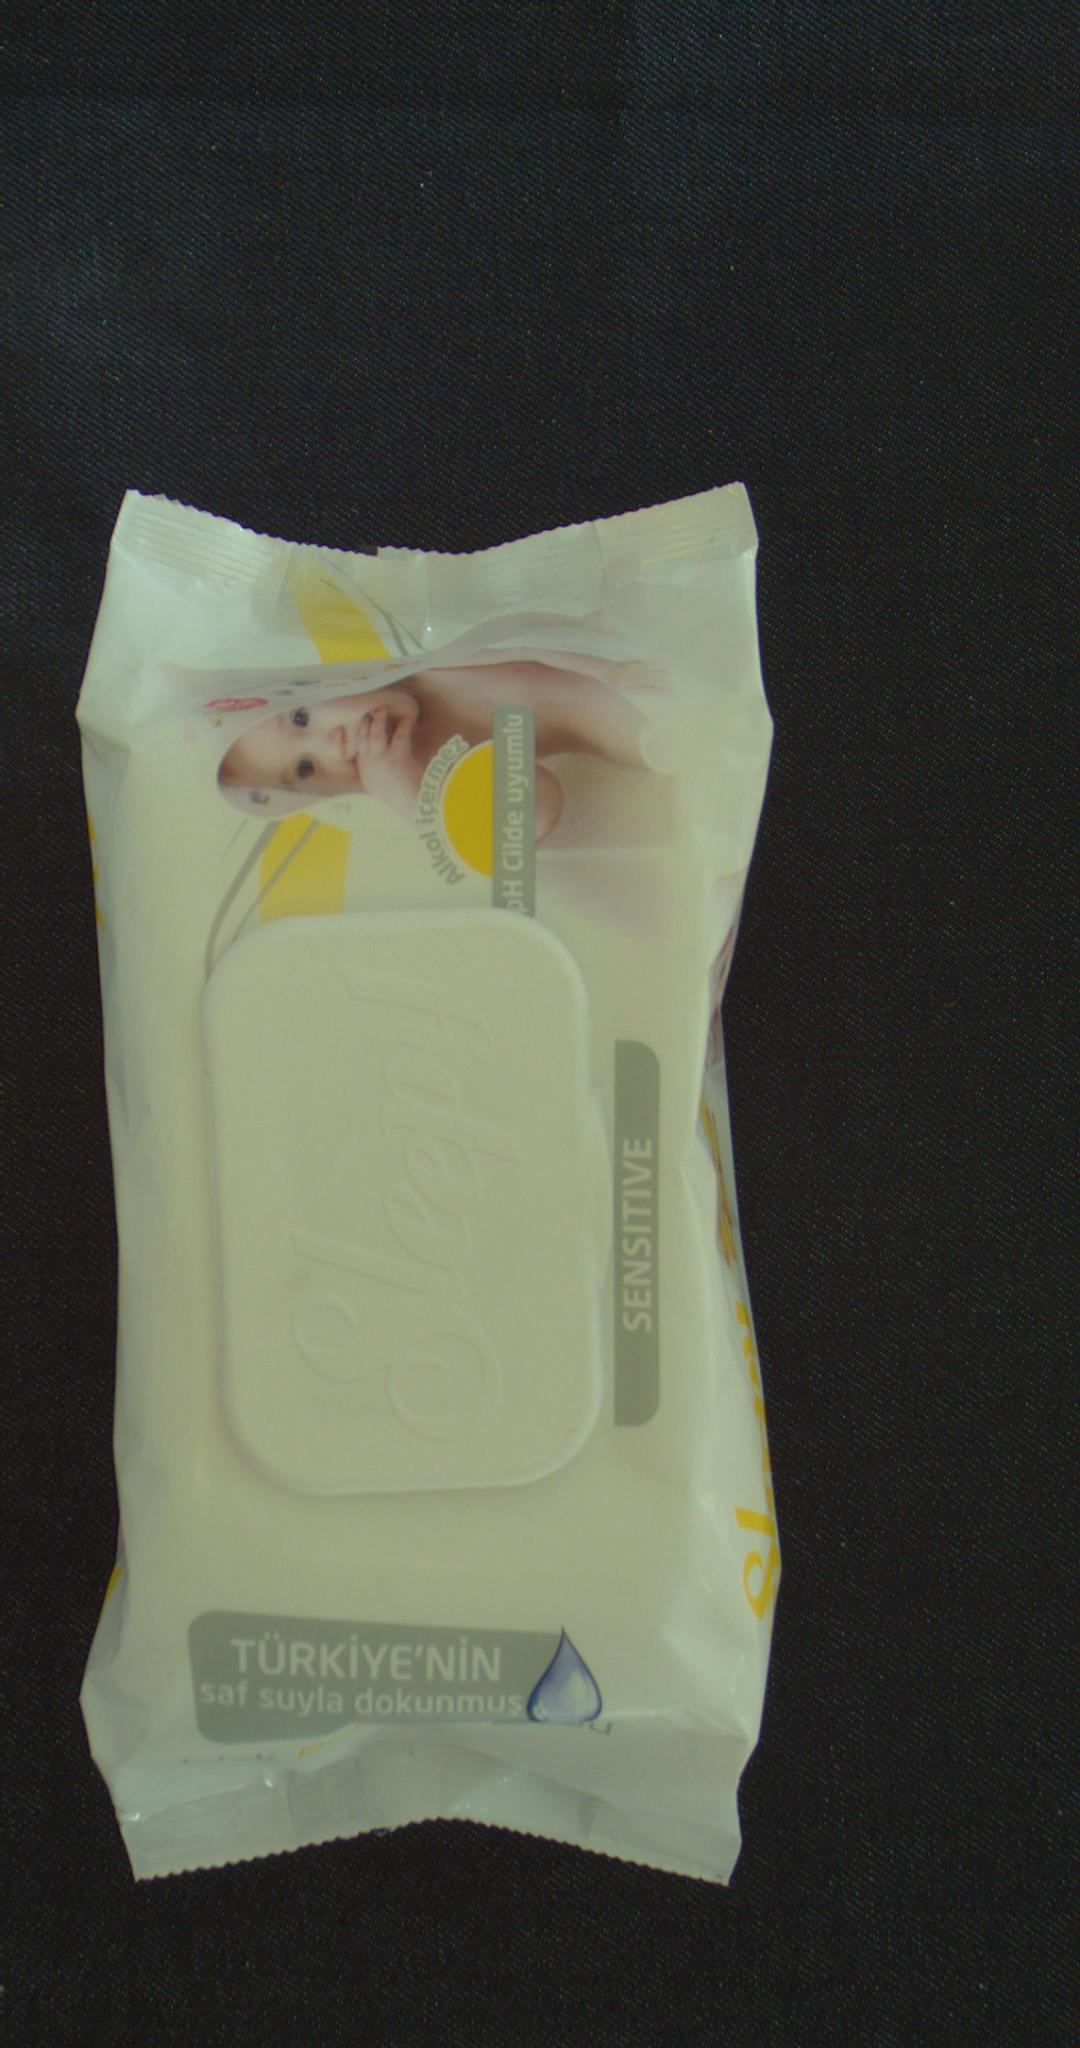kapak: (180, 926, 622, 1495)
